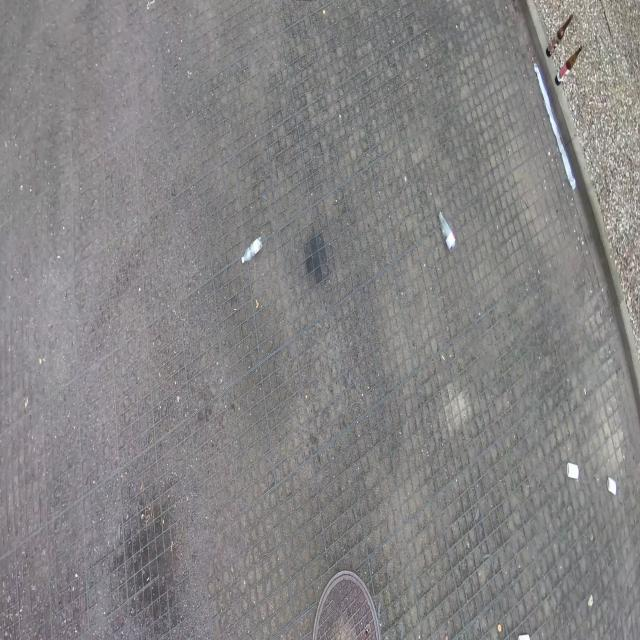rubbish: (533, 63, 576, 191), (545, 14, 573, 57), (555, 47, 582, 85), (437, 211, 457, 254), (241, 237, 263, 264), (567, 462, 579, 478), (607, 478, 616, 495), (518, 634, 530, 639), (497, 622, 501, 632)
